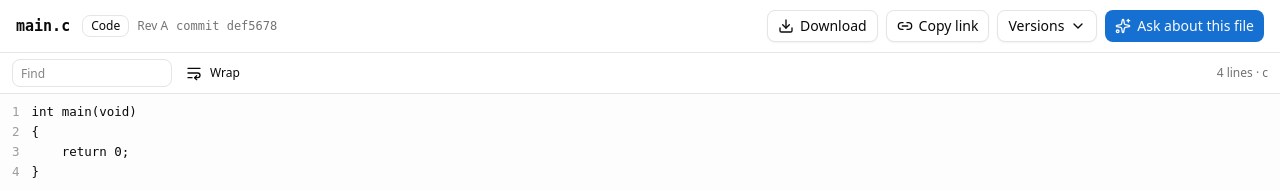
Test case: File viewer › a file with one version says so and offers no Compare
The width and height of the screenshot is (1280, 195).
Click the button "Versions" at (1047, 26), box x1=997 y1=10 x2=1097 y2=42
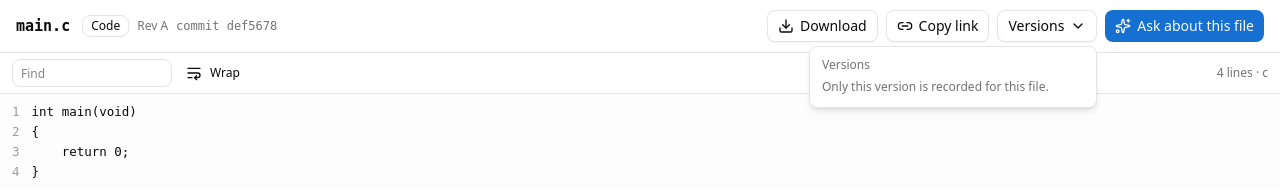
Expected: the text "Only this version is recorded for this file." is shown, x1=822 y1=78 x2=1049 y2=95
